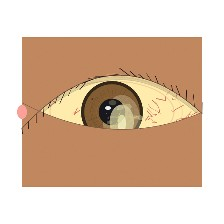corneal_ulcer: (94, 99, 150, 145)
